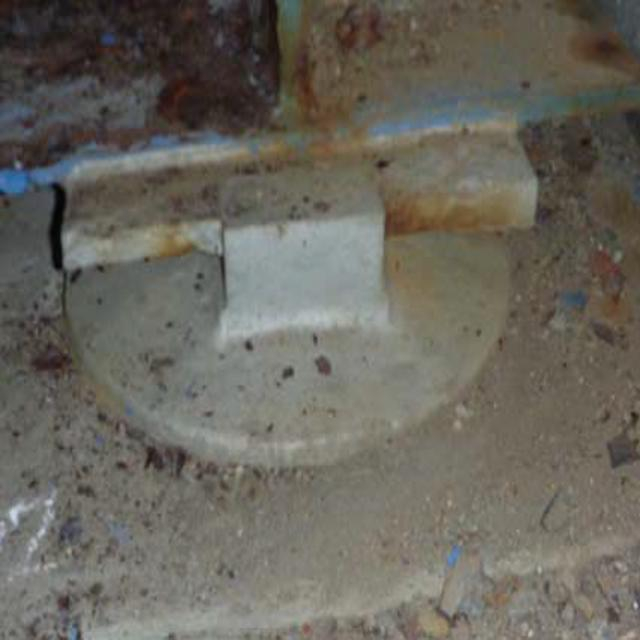corrosion: (13, 8, 636, 233)
